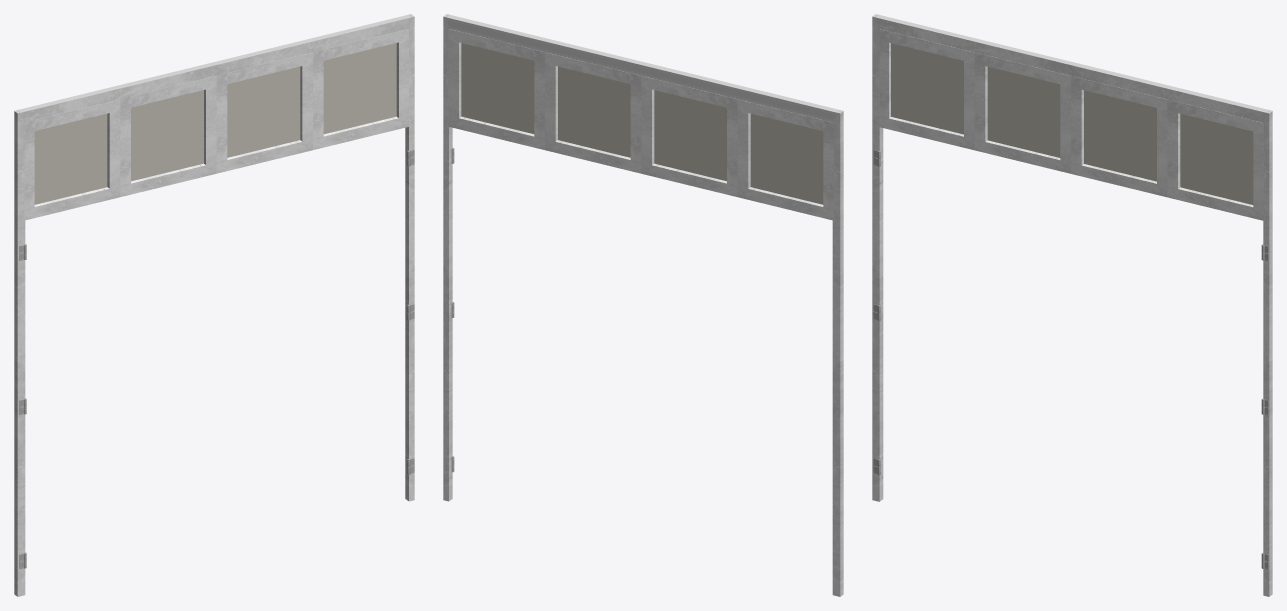
The model's file is DoorFrame.fbx.
3 renders of one model, left to right at view 1: azimuth 30°, elevation 25°; view 2: azimuth 150°, elevation 25°; view 3: azimuth 330°, elevation 25°, orthographic.
Parts seen in each view (by area): view 1: Door_Frame; view 2: Door_Frame; view 3: Door_Frame.
Part boxes in pixels (box(x1,y1,x2,y2)): Door_Frame: box(14, 14, 414, 596); Door_Frame: box(443, 14, 843, 596); Door_Frame: box(872, 14, 1272, 596).
Bounding box in the file's own units: 283 × 329 × 5.45.
3 materials, 2 textured.
